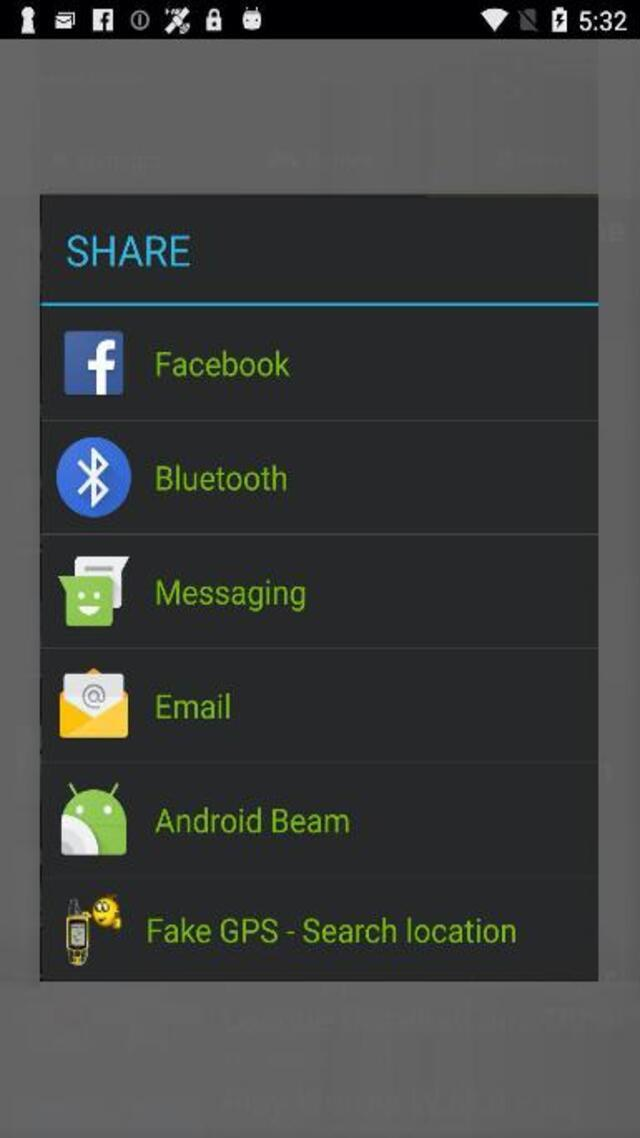Icon: (56, 436, 130, 518), (63, 330, 123, 394)
Image: (60, 555, 130, 626), (58, 668, 128, 737), (62, 782, 128, 854), (65, 892, 122, 964)
Text: (149, 916, 516, 944), (154, 806, 348, 833), (156, 580, 306, 612), (68, 234, 188, 266), (156, 349, 290, 376), (156, 463, 286, 490), (156, 692, 230, 720)
